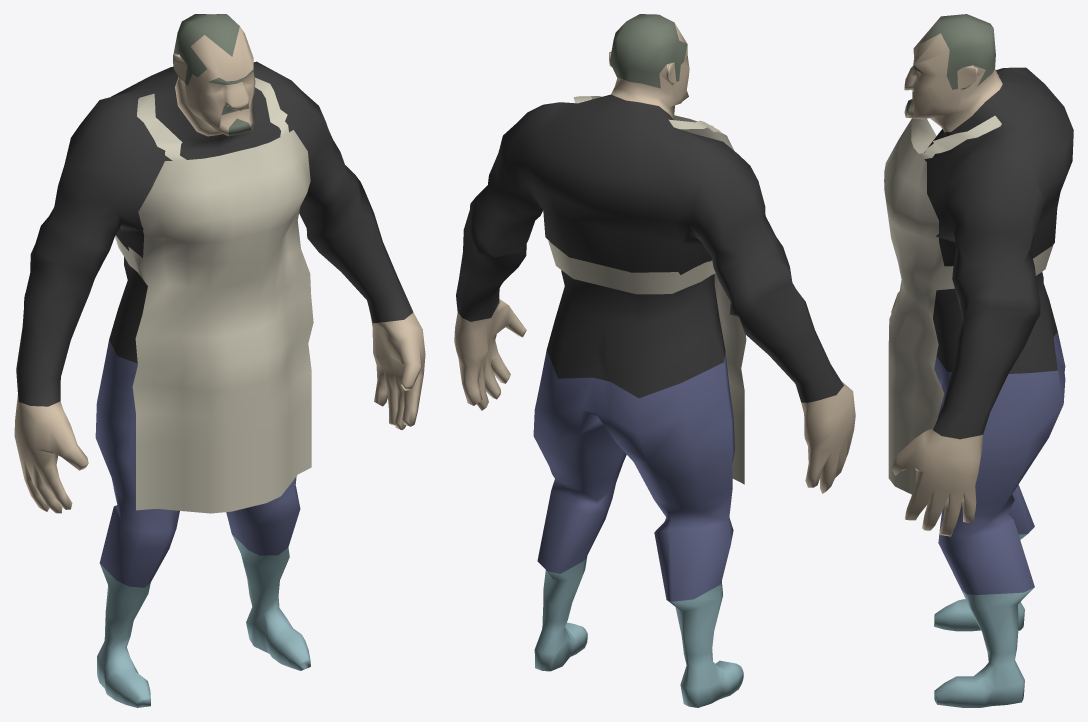
File: Temporary test.fbx
3 views of the same model, side by side, from view 1: azimuth 30°, elevation 25°; view 2: azimuth 150°, elevation 25°; view 3: azimuth 270°, elevation 25° (orthographic). The views are drawn at different scales.
Parts seen in each view (by area): view 1: pPlane2; view 2: pPlane2; view 3: pPlane2.
Boxes of the visible parts, x1=… form: pPlane2: x1=14, y1=14, x2=425, y2=707; pPlane2: x1=454, y1=14, x2=855, y2=707; pPlane2: x1=884, y1=14, x2=1073, y2=707.
Size of the model in its own units: 10.24 by 16.38 by 4.37.
